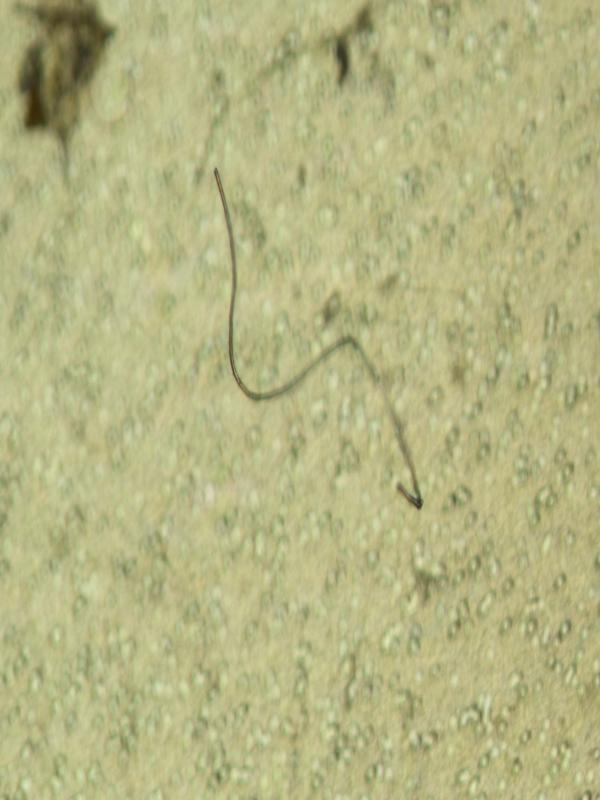microplastic: (212, 164, 424, 512), (15, 0, 117, 188)
